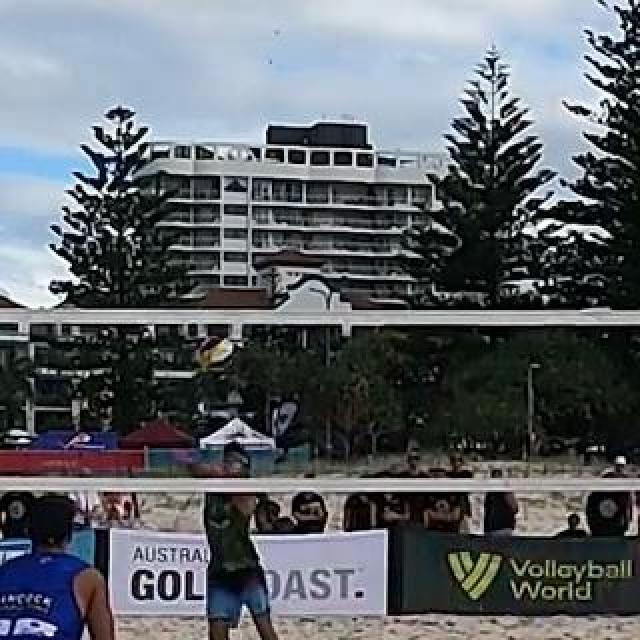volleyball: (193, 333, 231, 367)
